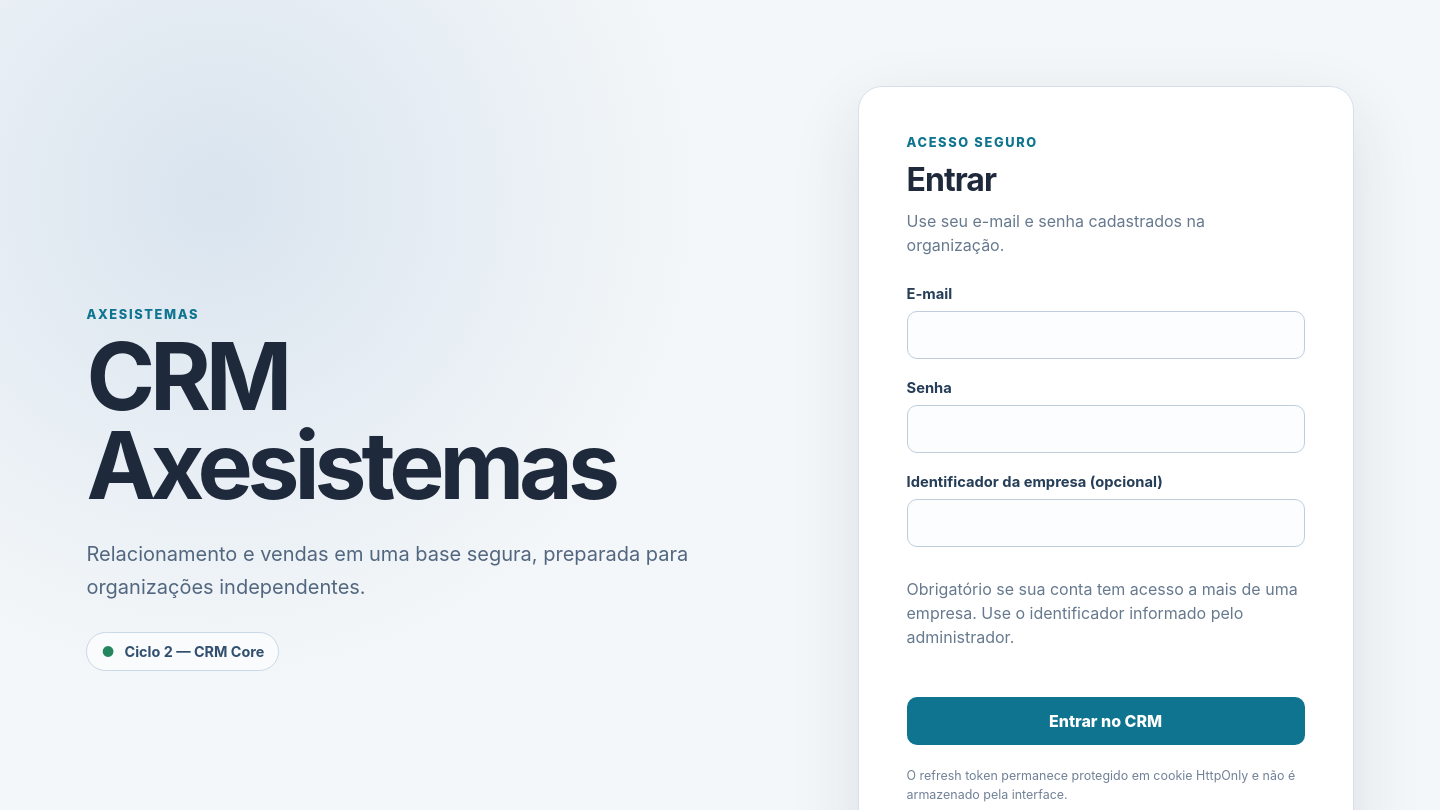
C4.3.3 products navigation › opens the products catalog when the session has product.read
Type "seller@axes.test" into the field labelled "E-mail" at (1106, 335), box top-left (906, 311), bottom-right (1305, 359)
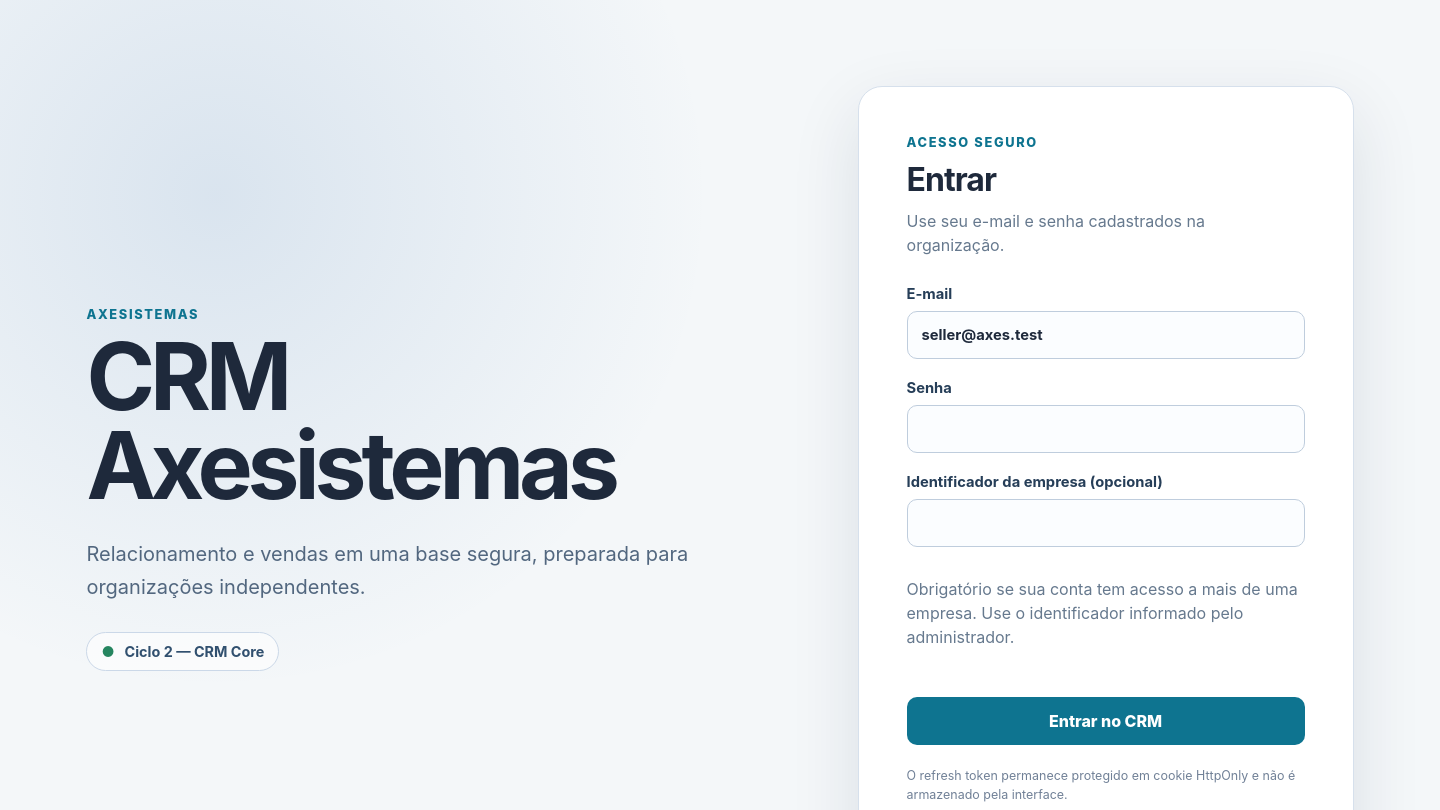
Type "example-password" into the password field labelled "Senha" at (1106, 429), box top-left (906, 405), bottom-right (1305, 453)
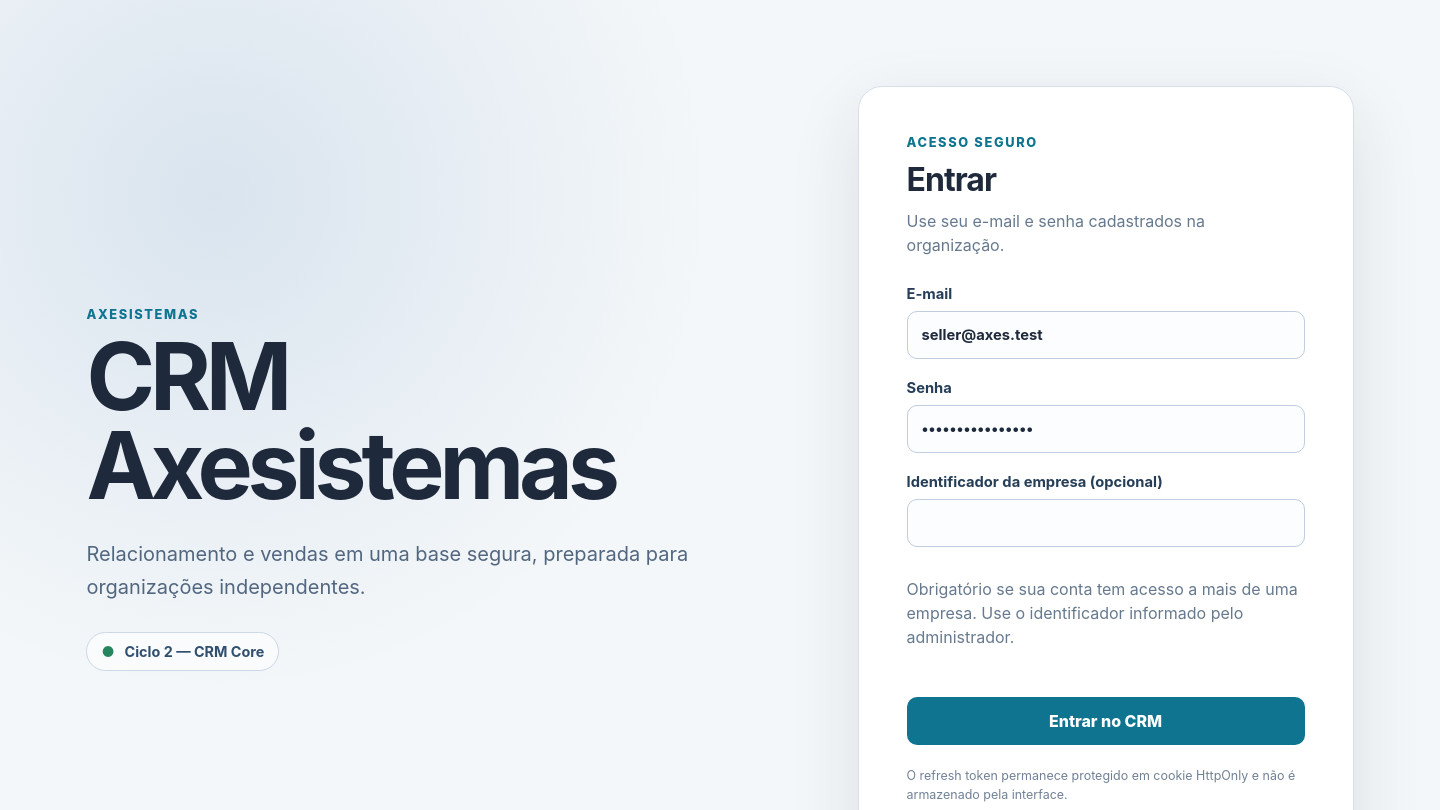
Click the button "Entrar no CRM" at (1106, 721), box top-left (906, 697), bottom-right (1305, 745)
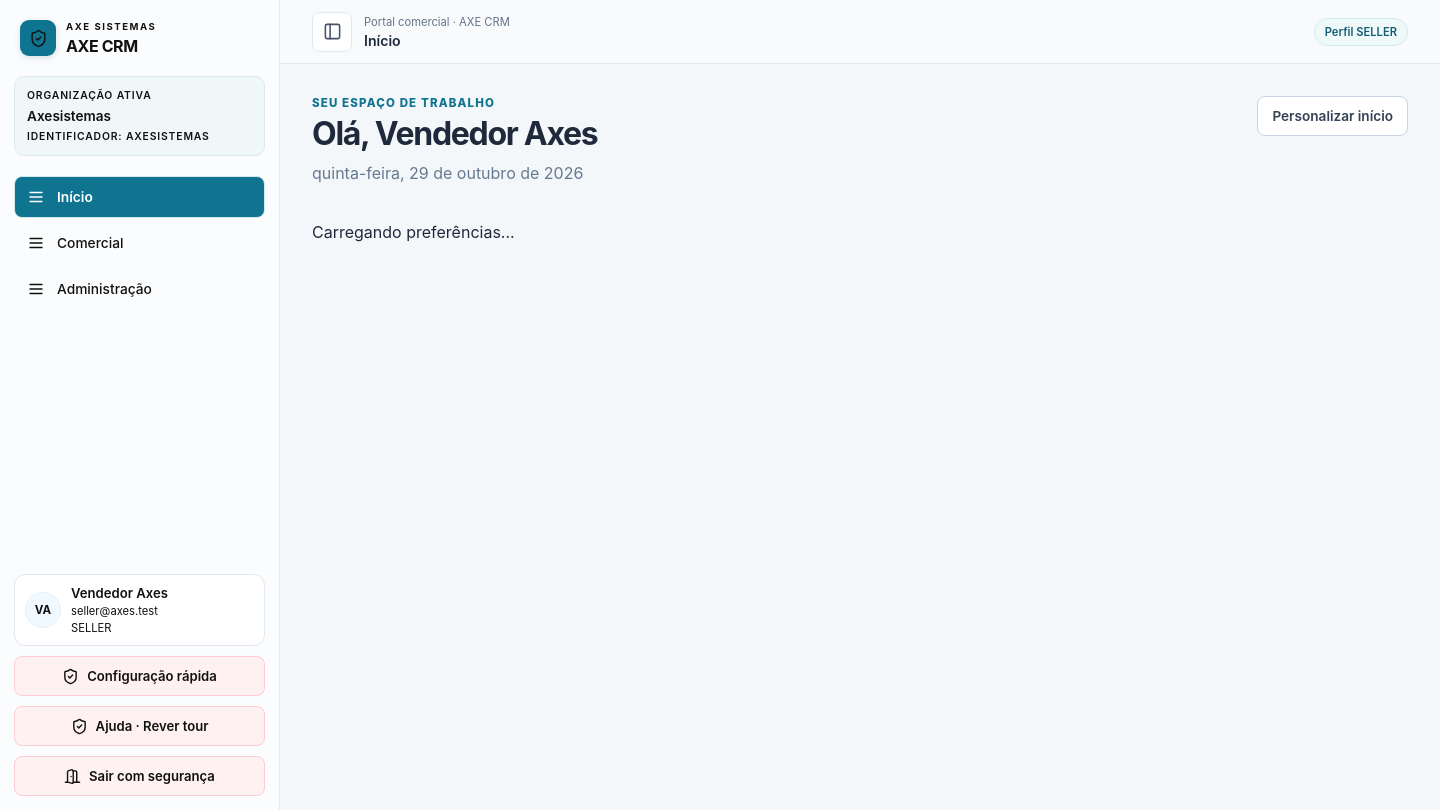
Expected: the text "Axesistemas" is shown, top-left (27, 108), bottom-right (111, 124)
Click the button with aria-label "Grupo Comercial" at (140, 243), box top-left (14, 222), bottom-right (265, 264)
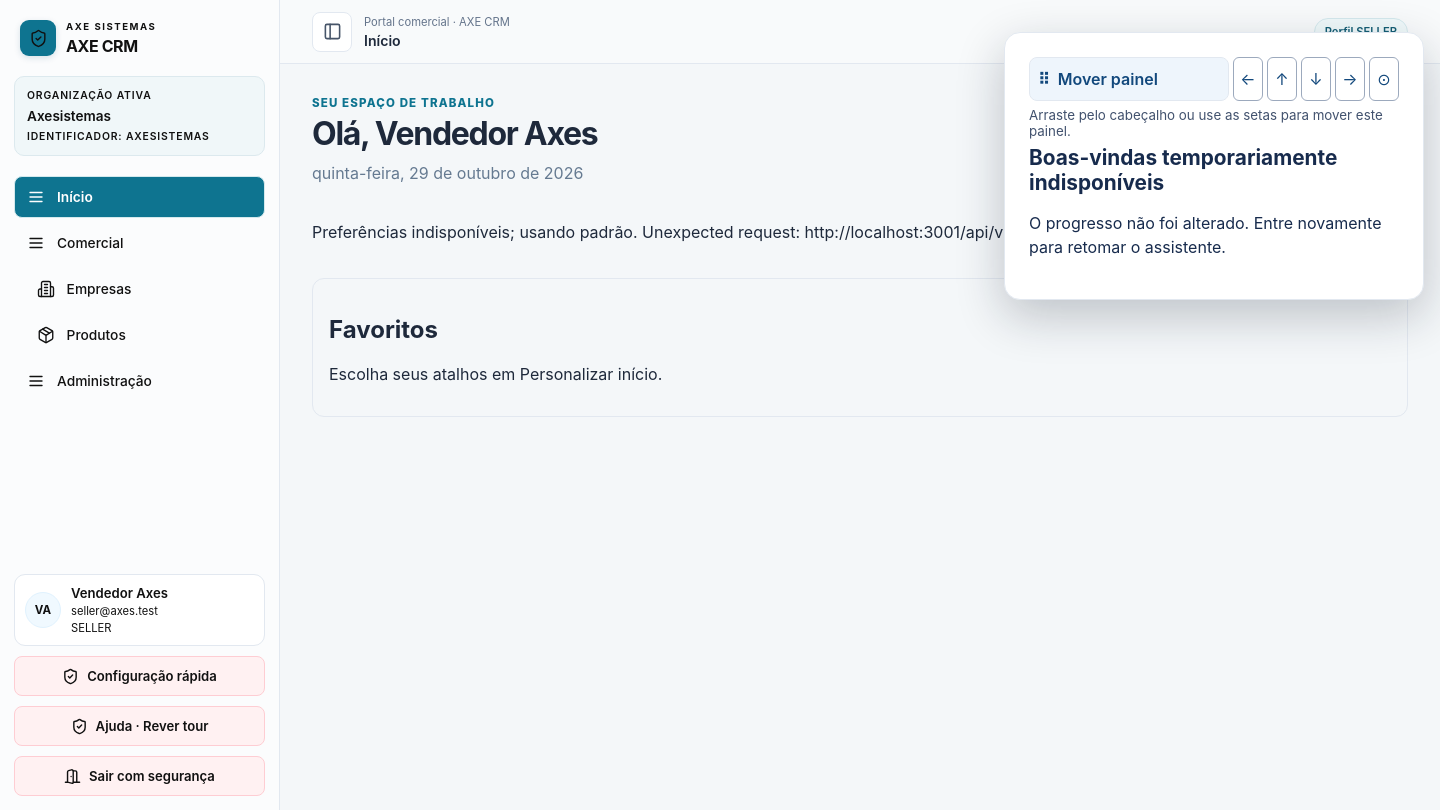
Click the button "Produtos" at (144, 335), box top-left (24, 314), bottom-right (265, 356)
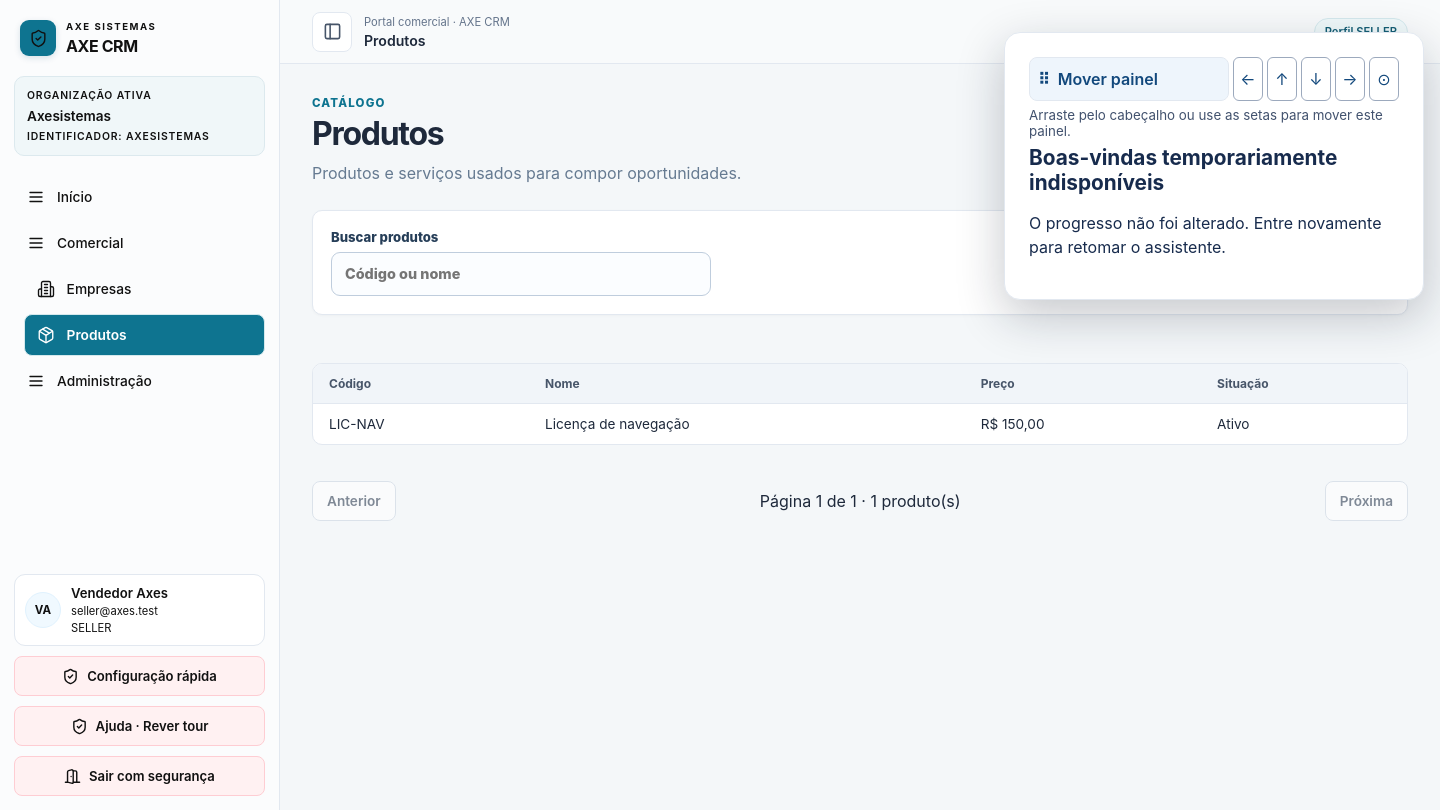
Now the heading "Produtos" is shown, box top-left (312, 114), bottom-right (443, 153)
Now the text "Licença de navegação" is shown, box top-left (529, 403), bottom-right (965, 444)
